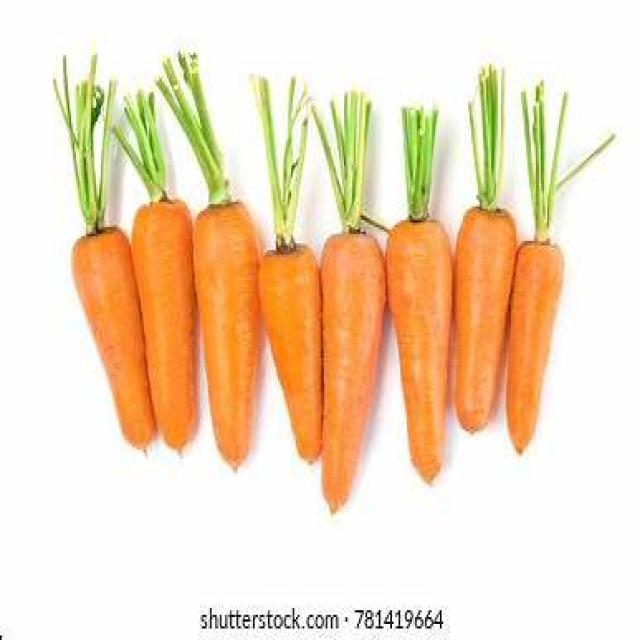Carrot: (182, 61, 271, 476), (249, 87, 326, 457), (319, 97, 385, 518), (136, 92, 203, 467), (391, 108, 454, 490), (454, 73, 516, 437), (509, 86, 566, 462), (73, 228, 160, 454)
